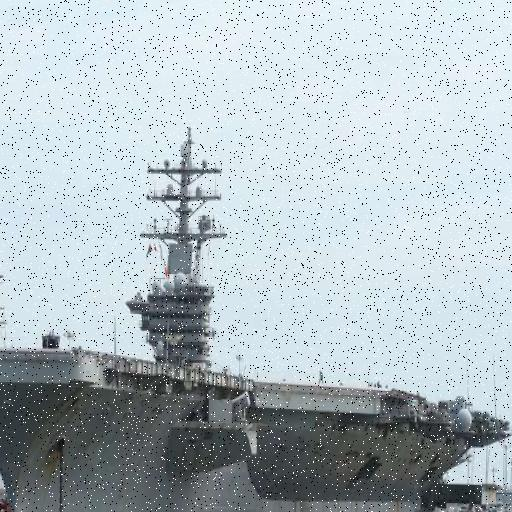Portanaves: (1, 115, 512, 512)
